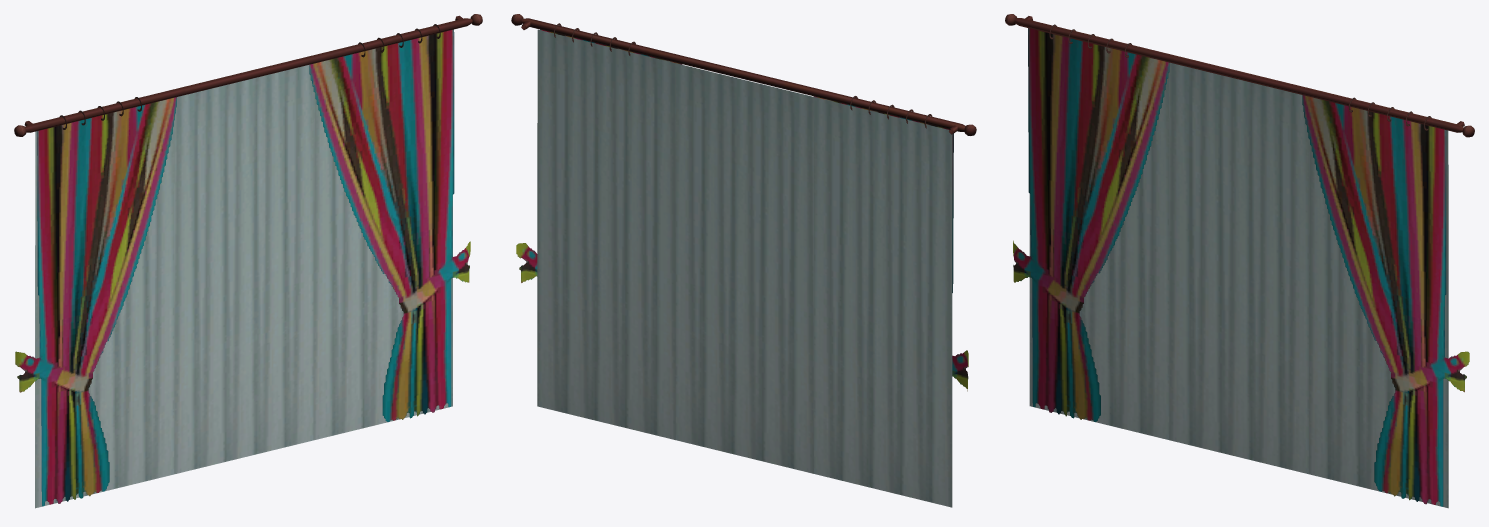
File: furni_0200626.FBX
3 renders of one model, left to right at view 1: azimuth 30°, elevation 25°; view 2: azimuth 150°, elevation 25°; view 3: azimuth 330°, elevation 25°, orthographic.
Visible parts, largest first — view 1: furni_0200626; view 2: furni_0200626; view 3: furni_0200626.
Part boxes in pixels (left/top/right/bottom): furni_0200626: left=14, top=14, right=482, bottom=508; furni_0200626: left=511, top=14, right=976, bottom=507; furni_0200626: left=1005, top=14, right=1474, bottom=508.
Bounding box in the file's own units: 353 × 280 × 13.37.
Materials: 2 (2 with a texture image).
